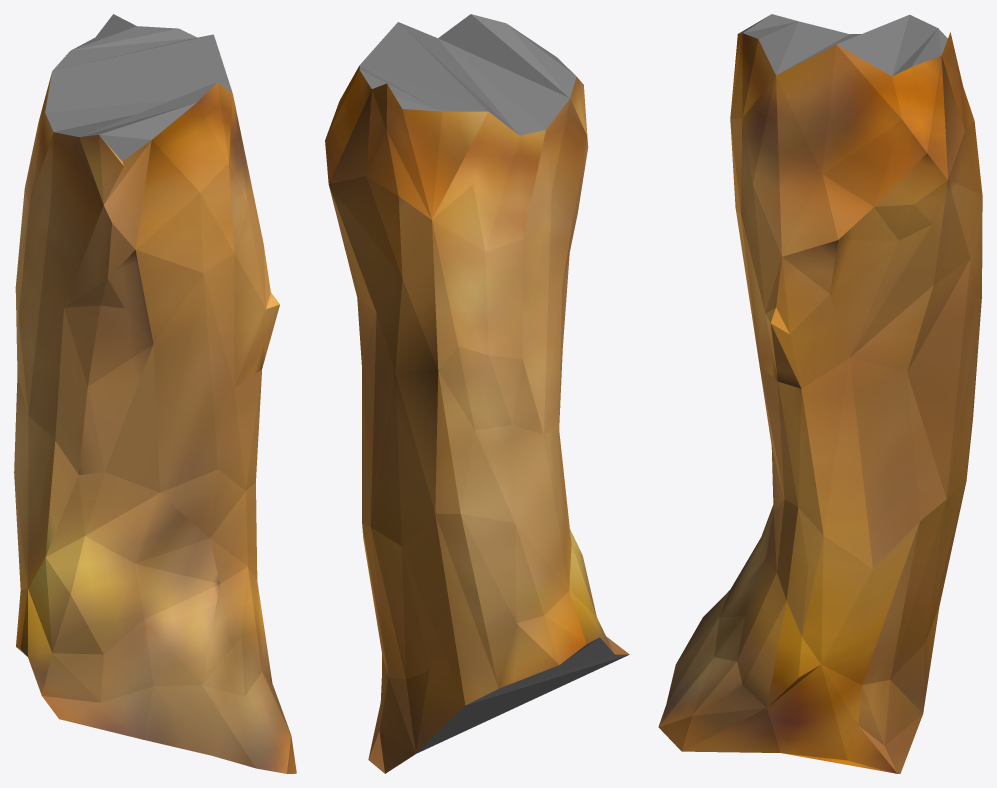
Rendered from carpopodite5_left.obj.
3 renders of one model, left to right at view 1: azimuth 30°, elevation 25°; view 2: azimuth 150°, elevation 25°; view 3: azimuth 270°, elevation 25°, orthographic. The views are drawn at different scales.
Visible parts, largest first — view 1: 5_left_leg_5_left.085; view 2: 5_left_leg_5_left.085; view 3: 5_left_leg_5_left.085.
Boxes of the visible parts, x1=… form: 5_left_leg_5_left.085: x1=14, y1=14, x2=296, y2=773; 5_left_leg_5_left.085: x1=325, y1=14, x2=629, y2=773; 5_left_leg_5_left.085: x1=658, y1=14, x2=982, y2=773.
Bounding box in the file's own units: 0.2875 × 0.866 × 0.3444.
Materials: 15 (14 with a texture image).
